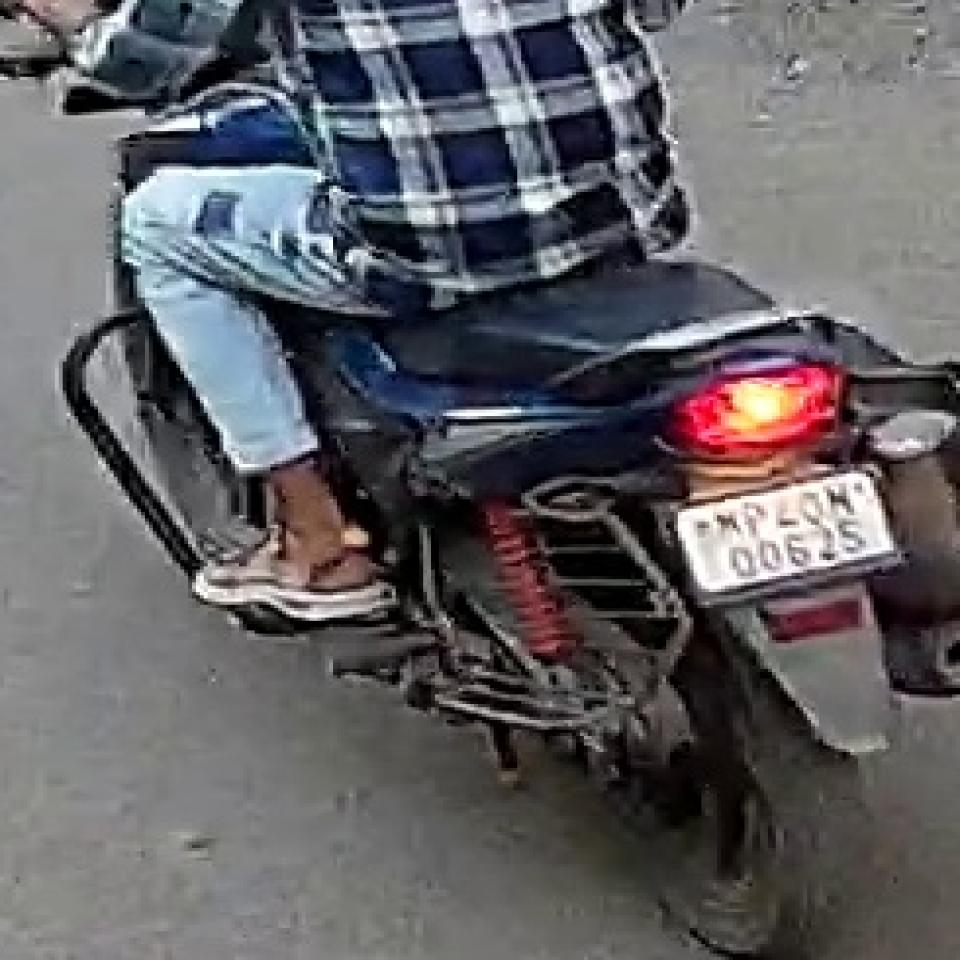tail_light: (671, 362, 849, 470)
